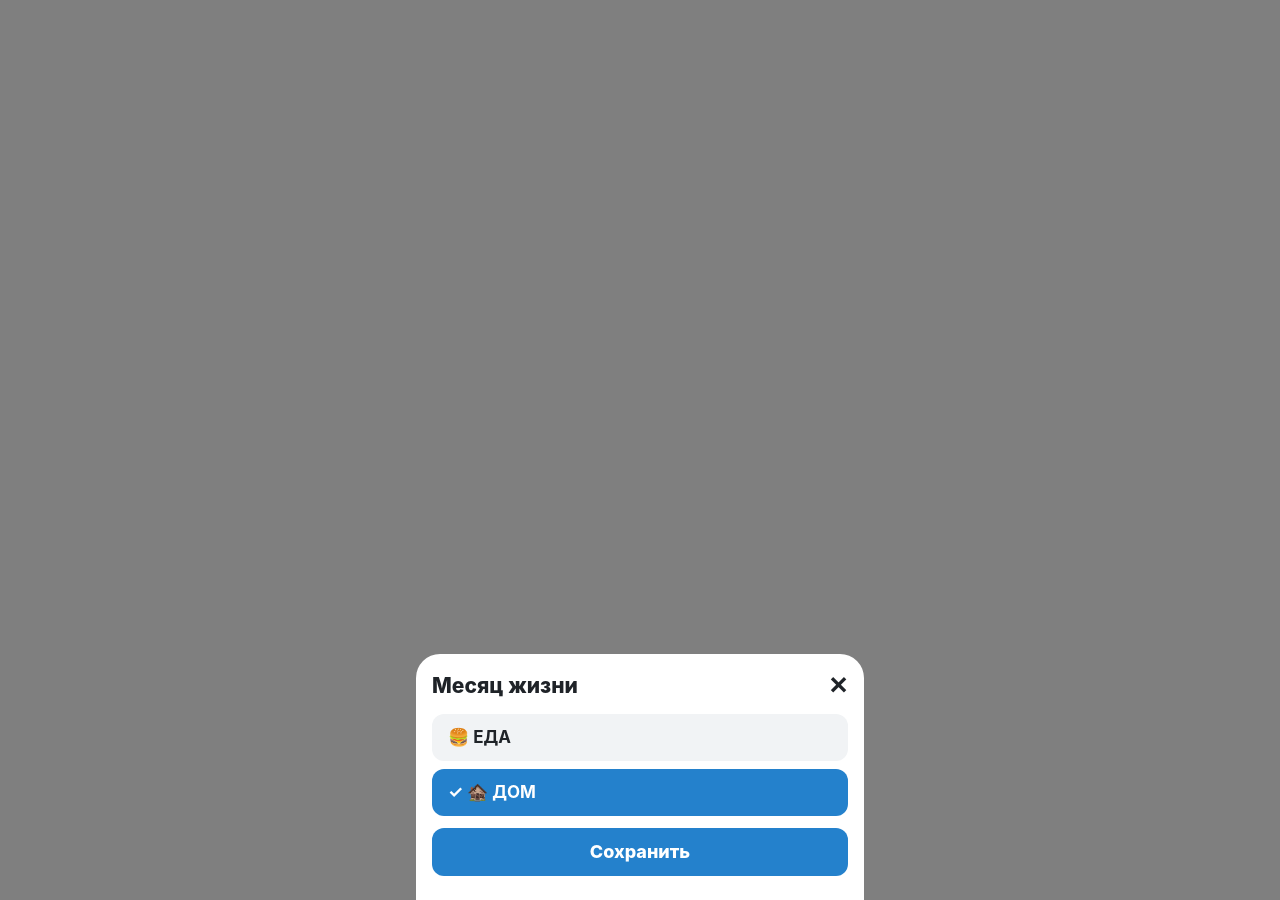
Scenario: LifeSheet › needs at least one group
The image size is (1280, 900).
Click the checkbox labelled "🏚️ ДОМ": (492, 792) top-left (432, 769), bottom-right (848, 816)
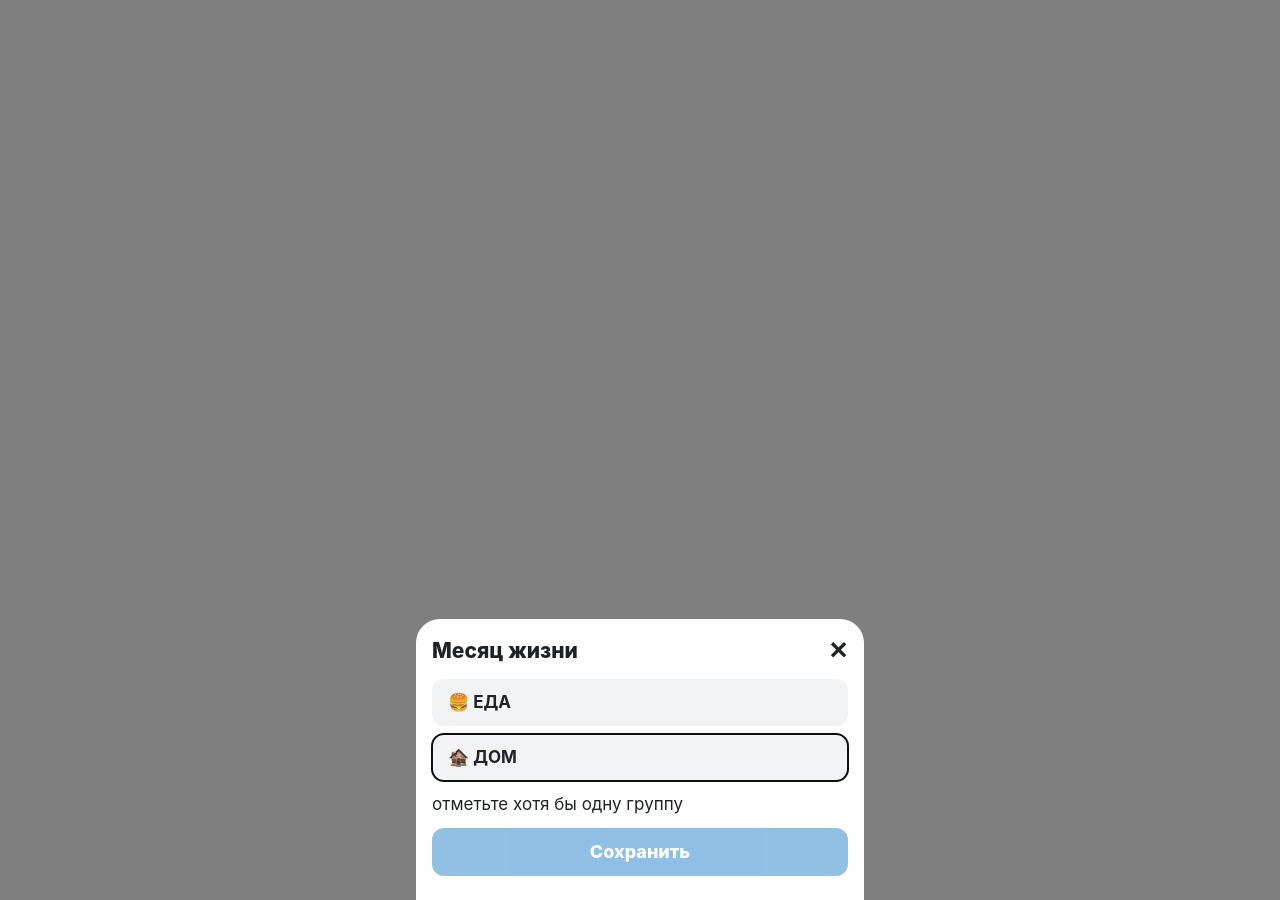
Now the button "Сохранить" is disabled, box top-left (432, 828), bottom-right (848, 876)
Now the text "отметьте хотя бы одну группу" is shown, box top-left (432, 794), bottom-right (683, 814)
